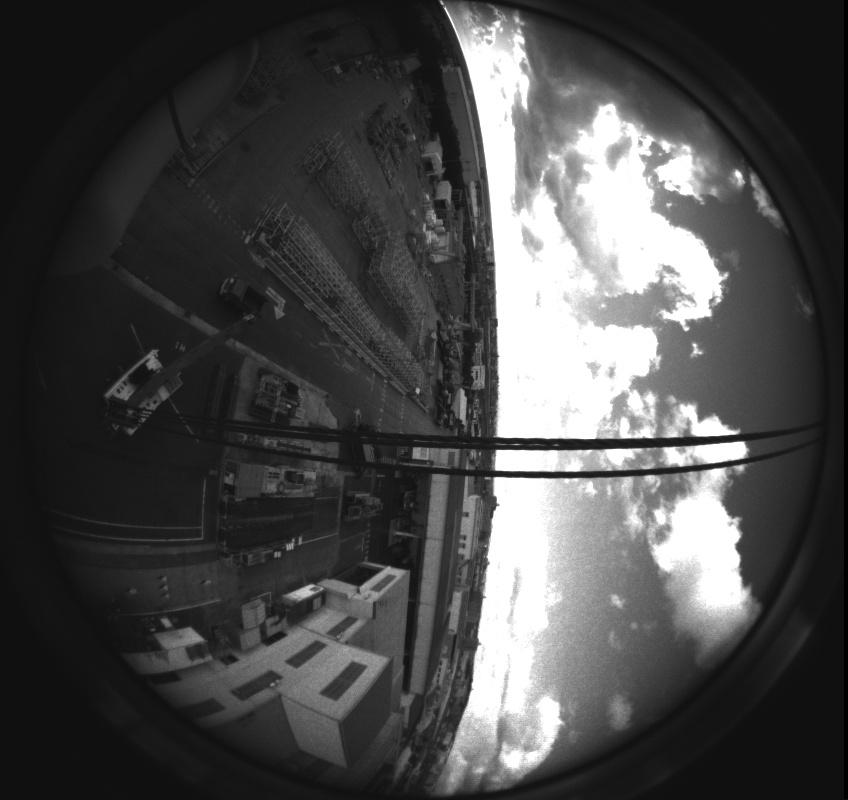rope: (8, 369, 845, 485)
